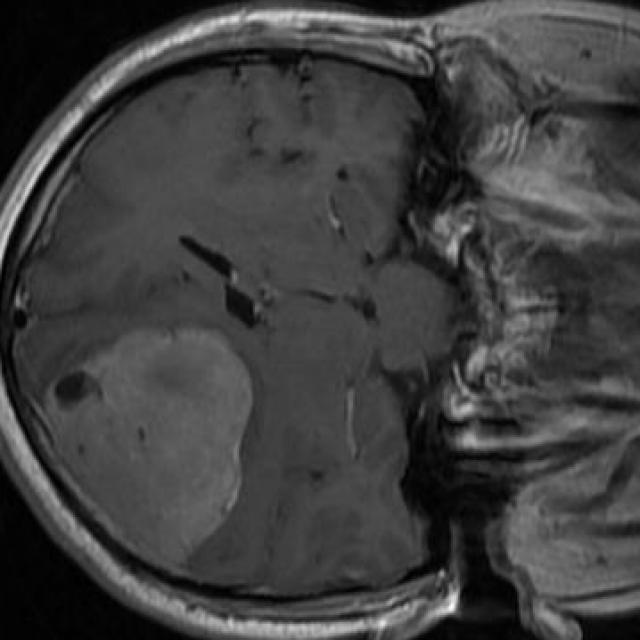meningioma: (37, 328, 253, 570)
